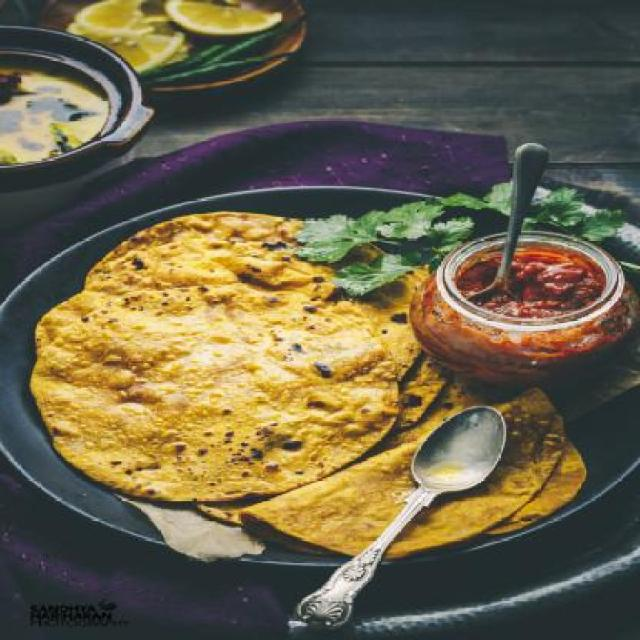chapati: (29, 213, 440, 559), (240, 393, 585, 552)
